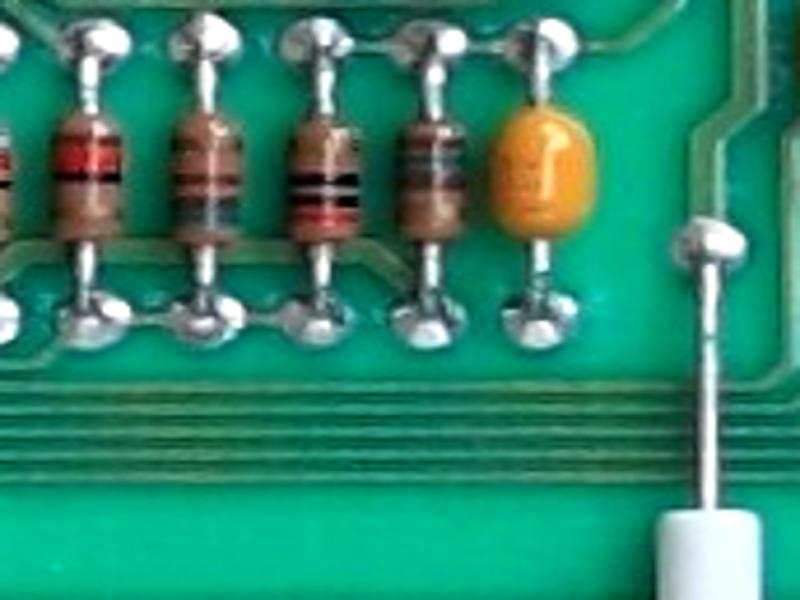Resistor: (151, 88, 252, 279), (272, 89, 373, 271), (42, 89, 131, 277), (387, 98, 472, 257)
